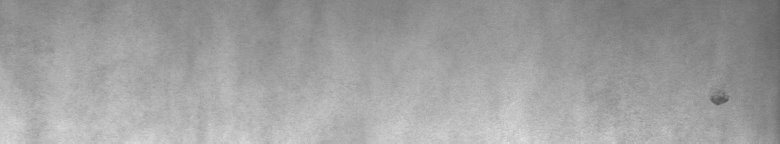fi: (709, 93, 731, 112)
